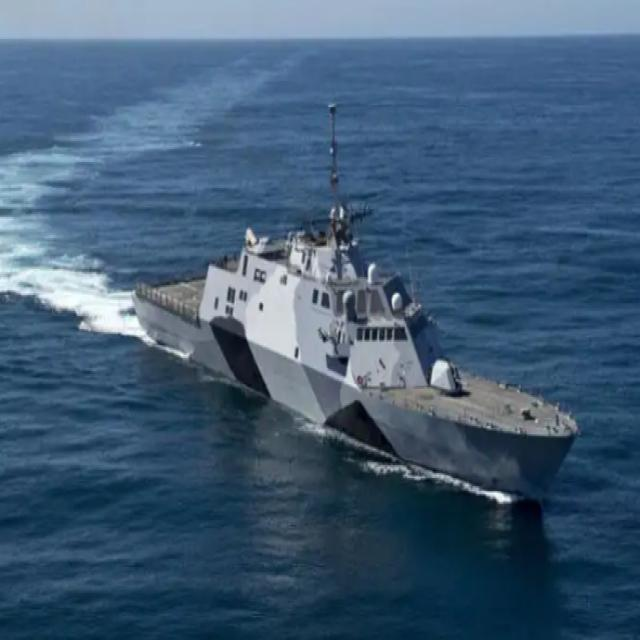navalvessels: (129, 95, 573, 508)
